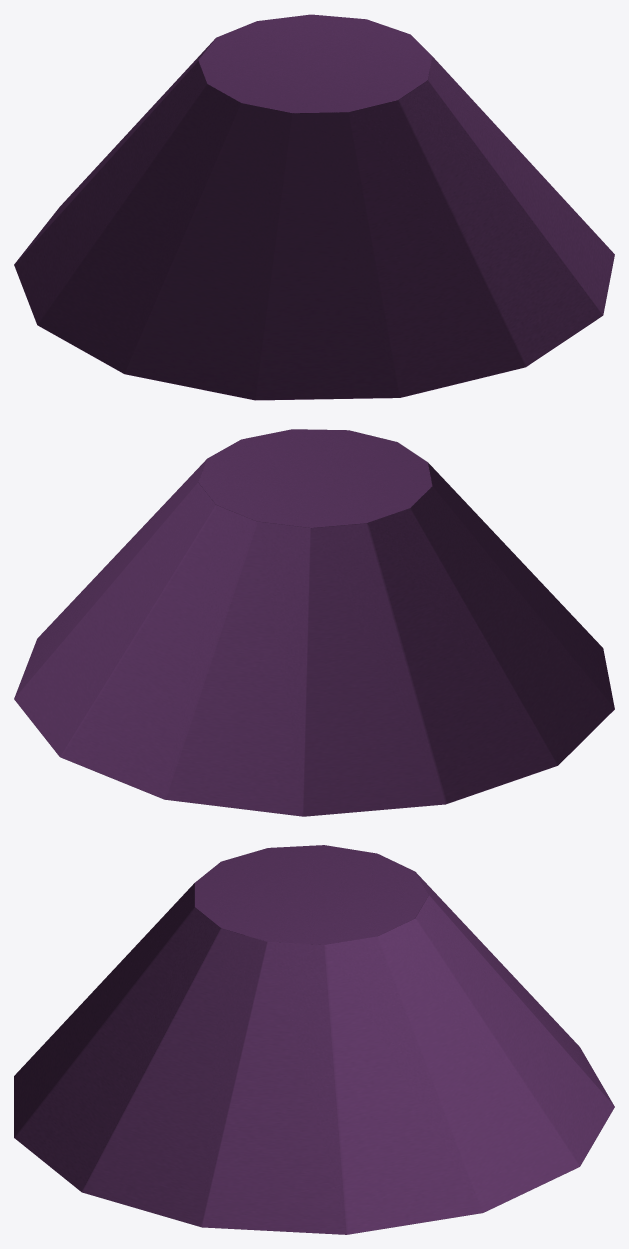
Rendered from child1.gltf.
The picture shows the model from 3 angles, top to bottom: view 1: azimuth 30°, elevation 25°; view 2: azimuth 150°, elevation 25°; view 3: azimuth 270°, elevation 25°; orthographic projection.
Parts seen in each view (by area): view 1: Cone.002; view 2: Cone.002; view 3: Cone.002.
Part boxes in pixels (box(x1,y1,x2,y2)): Cone.002: box(14, 14, 614, 400); Cone.002: box(14, 429, 614, 816); Cone.002: box(14, 845, 614, 1234).
Bounding box in the file's own units: 3.16 × 1.22 × 3.13.
Materials: 1 (1 with a texture image).
